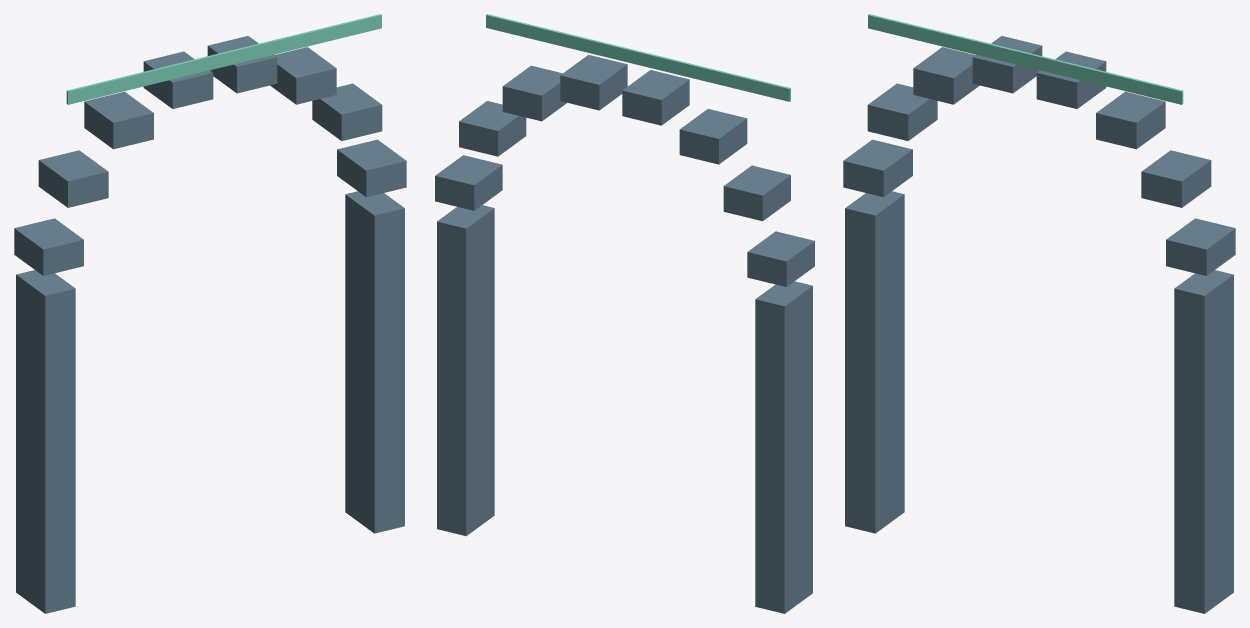
File: med_scanner_arch.glb
The picture shows the model from 3 angles, left to right: view 1: azimuth 30°, elevation 25°; view 2: azimuth 150°, elevation 25°; view 3: azimuth 330°, elevation 25°; orthographic projection. The views are drawn at different scales.
Visible parts, largest first — view 1: sw5e_int_med_scanner_arch; view 2: sw5e_int_med_scanner_arch; view 3: sw5e_int_med_scanner_arch.
Boxes of the visible parts, x1,y1,x2,y2 form: sw5e_int_med_scanner_arch: (14, 14, 406, 613); sw5e_int_med_scanner_arch: (435, 14, 814, 613); sw5e_int_med_scanner_arch: (843, 14, 1235, 613).
Size of the model in its own units: 1.44 by 1.95 by 0.2.
